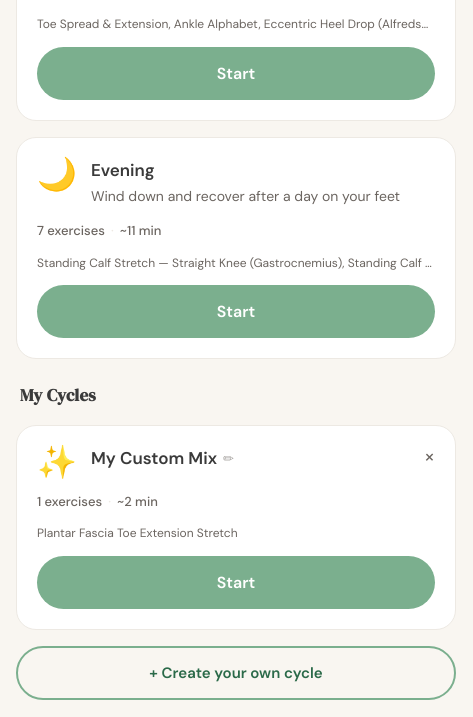
Test: Cycle — pick view › renames a custom cycle
(page scrolled)
Click the button named "Rename cycle" at (228, 459), box [223,452,234,465]
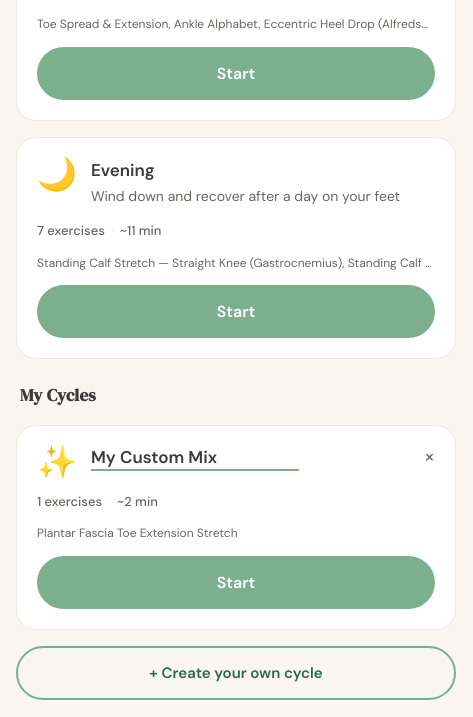
Replace the text in the field showing "My Custom Mix" with "Renamed Mix" at (195, 458), box [91,446,299,471]
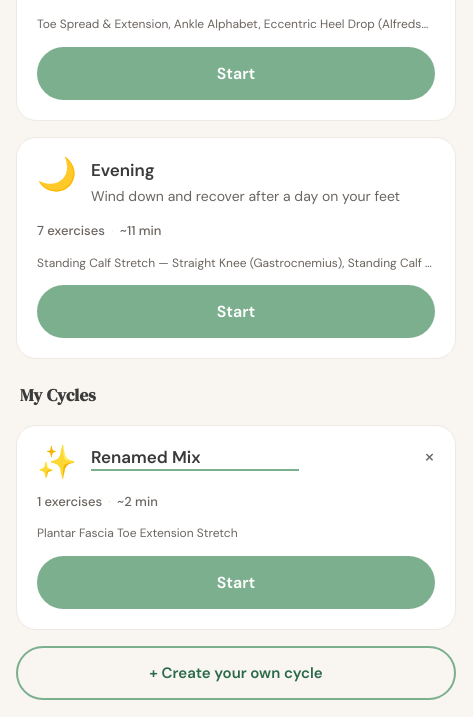
Press Enter in the field showing "My Custom Mix", box [91,446,299,471]
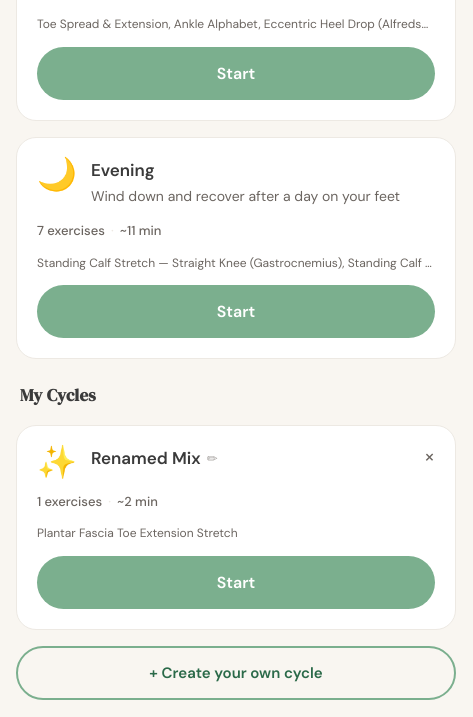
Result: the text "Renamed Mix" is shown at [91,446,201,471]
